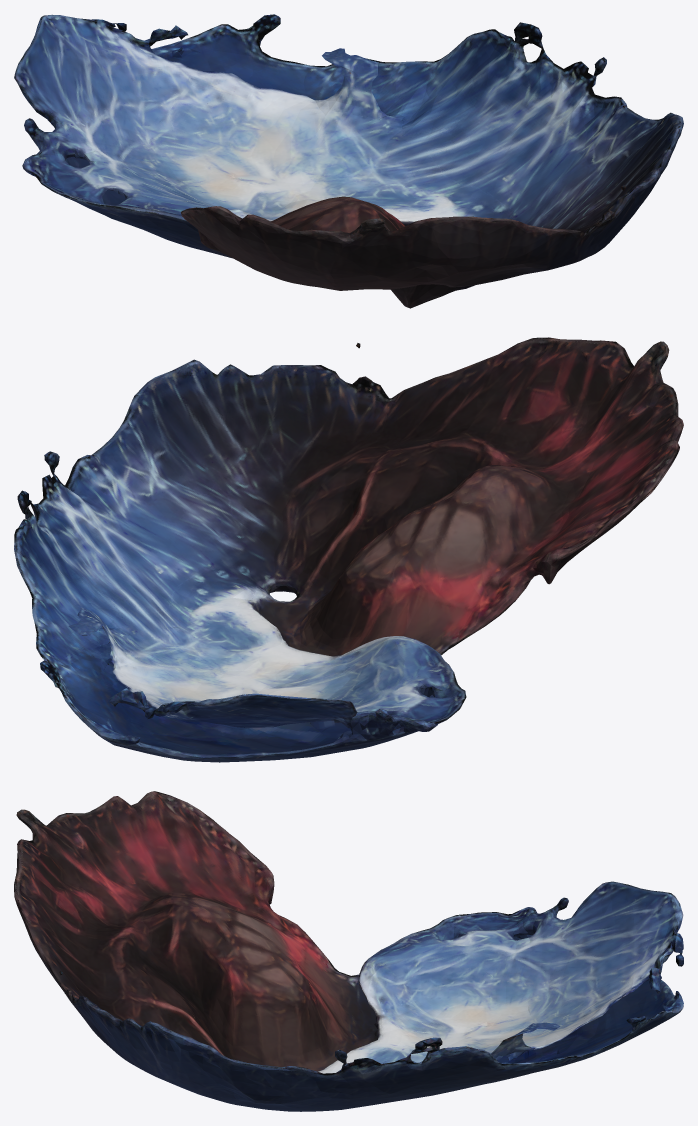
The model's file is nensontinhthuytinh.glb.
The picture shows the model from 3 angles, top to bottom: view 1: azimuth 30°, elevation 25°; view 2: azimuth 150°, elevation 25°; view 3: azimuth 270°, elevation 25°; orthographic projection. The views are drawn at different scales.
Parts seen in each view (by area): view 1: world; view 2: world; view 3: world.
Boxes of the visible parts, x1=… form: world: x1=14, y1=14, x2=683, y2=308; world: x1=14, y1=337, x2=683, y2=762; world: x1=14, y1=791, x2=683, y2=1111.
Size of the model in its own units: 0.7679 by 0.3175 by 0.9977.
Materials: 1 (1 with a texture image).
